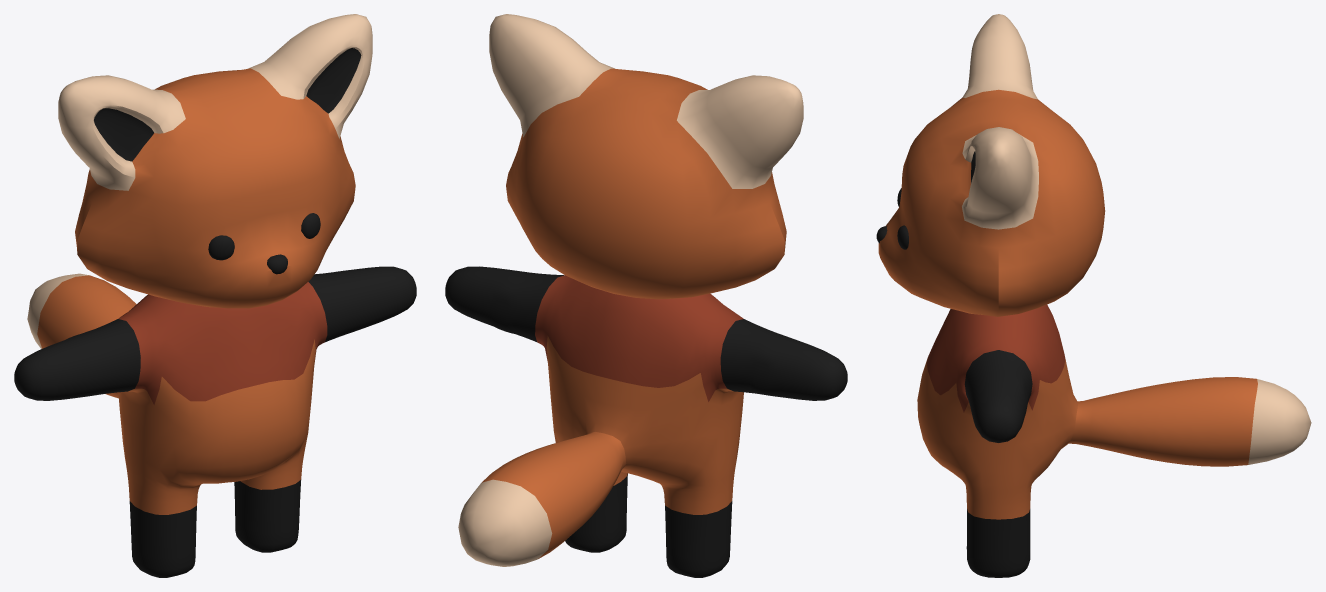
The model's file is RedPanda_Character_materialer2.glb.
The picture shows the model from 3 angles, left to right: view 1: azimuth 30°, elevation 25°; view 2: azimuth 150°, elevation 25°; view 3: azimuth 270°, elevation 25°; orthographic projection. The views are drawn at different scales.
Visible parts, largest first — view 1: Head, Body, Eyes; view 2: Body, Head; view 3: Body, Head.
Part boxes in pixels (x1,y1,x2,y2): Head: (58,14,372,308); Body: (14,266,416,577); Eyes: (208,213,320,260); Body: (445,266,847,577); Head: (489,14,803,299); Body: (917,304,1311,577); Head: (878,14,1105,316).
Size of the model in its own units: 3.18 by 3.9 by 3.27.
